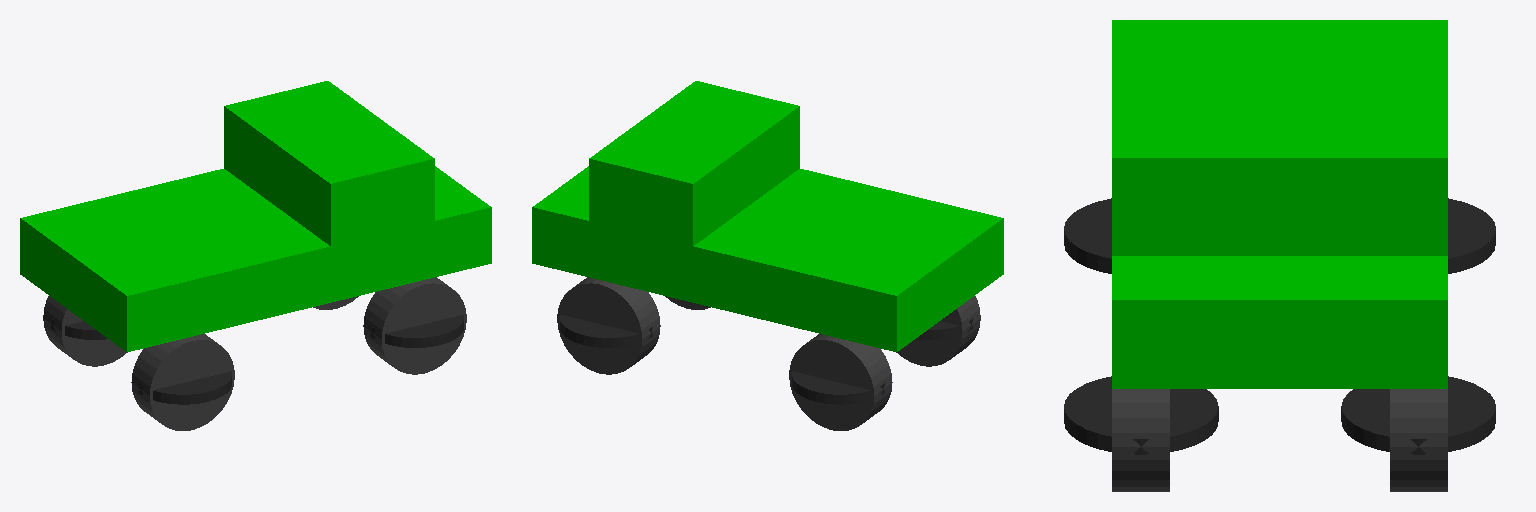
The robot description file, URDF, robot "rccar-unimog":
<?xml version="1.0" ?>
<!-- =================================================================================== -->
<!-- |    This document was autogenerated by xacro from rccar-unimog.urdf.xacro        | -->
<!-- |    EDITING THIS FILE BY HAND IS NOT RECOMMENDED                                 | -->
<!-- =================================================================================== -->
<robot name="rccar-unimog">
  <material name="black">
    <color rgba="0.0 0.0 0.0 1.0"/>
  </material>
  <material name="dark">
    <color rgba="0.3 0.3 0.3 1.0"/>
  </material>
  <material name="light_black">
    <color rgba="0.4 0.4 0.4 1.0"/>
  </material>
  <material name="blue">
    <color rgba="0.0 0.0 0.8 1.0"/>
  </material>
  <material name="green">
    <color rgba="0.0 0.8 0.0 1.0"/>
  </material>
  <material name="grey">
    <color rgba="0.2 0.2 0.2 1.0"/>
  </material>
  <material name="darkgrey">
    <color rgba="0.3 0.3 0.3 1.0"/>
  </material>
  <material name="orange">
    <color rgba="1.0 0.4235294117647059 0.0392156862745098 1.0"/>
  </material>
  <material name="brown">
    <color rgba="0.8705882352941177 0.8117647058823529 0.7647058823529411 1.0"/>
  </material>
  <material name="red">
    <color rgba="0.8 0.0 0.0 1.0"/>
  </material>
  <material name="white">
    <color rgba="1.0 1.0 1.0 1.0"/>
  </material>
  <material name="aluminum">
    <color rgba="0.5 0.5 0.5 1"/>
  </material>
  <material name="plastic">
    <color rgba="0.1 0.1 0.1 1"/>
  </material>
  <gazebo reference="base_link">
    <material>Gazebo/Green</material>
  </gazebo>
  <gazebo reference="gps_link">
    <material>Gazebo/Black</material>
    <sensor name="ublox_gps" type="gps">
      <always_on>true</always_on>
      <update_rate>5.0</update_rate>
      <!--
      <gps>
        <position_sensing>
          <horizontal>
            <noise type="gaussian">
              <mean>0.0</mean>
              <stddev>1e-2</stddev>
            </noise>
          </horizontal>
          <vertical>
            <noise type="gaussian">
              <mean>0.0</mean>
              <stddev>1</stddev>
            </noise>
          </vertical>
        </position_sensing>
      </gps>
      -->
      <plugin filename="libgazebo_ros_gps_sensor.so" name="gazebo_ros_gps_sensor">
        <frame_name>gps_link</frame_name>
        <ros>
          <remapping>~/out:=/gnss/fix</remapping>
        </ros>
      </plugin>
    </sensor>
  </gazebo>
  <gazebo reference="camera_imu_optical_frame">
    <!-- <gazebo reference="camera_gyro_optical_frame"> -->
    <gravity>true</gravity>
    <sensor name="camera_imu" type="imu">
      <always_on>true</always_on>
      <update_rate>200</update_rate>
      <plugin filename="libgazebo_ros_imu_sensor.so" name="imu_plugin">
        <frame_name>camera_imu_optical_frame</frame_name>
        <!-- <frame_name>camera_gyro_optical_frame</frame_name> -->
        <ros>
          <remapping>~/out:=/camera/imu_raw</remapping>
        </ros>
      </plugin>
    </sensor>
  </gazebo>
  <gazebo reference="camera_link">
    <sensor name="cameradepth" type="depth">
      <camera name="camera">
        <horizontal_fov>1.57</horizontal_fov>
        <image>
          <width>640</width>
          <height>480</height>
        </image>
        <clip>
          <near>0.1</near>
          <far>100</far>
        </clip>
        <noise>
          <type>gaussian</type>
          <mean>0.0</mean>
          <stddev>0.100</stddev>
        </noise>
      </camera>
      <always_on>1</always_on>
      <update_rate>30</update_rate>
      <visualize>0</visualize>
    </sensor>
    <sensor name="cameracolor" type="camera">
      <camera name="camera">
        <horizontal_fov>1.57</horizontal_fov>
        <image>
          <width>640</width>
          <height>480</height>
          <format>RGB_INT8</format>
        </image>
        <clip>
          <near>0.1</near>
          <far>100</far>
        </clip>
        <noise>
          <type>gaussian</type>
          <mean>0.0</mean>
          <stddev>0.007</stddev>
        </noise>
      </camera>
      <always_on>1</always_on>
      <update_rate>30</update_rate>
      <visualize>1</visualize>
    </sensor>
    <sensor name="cameraired1" type="camera">
      <camera name="camera">
        <horizontal_fov>1.57</horizontal_fov>
        <image>
          <width>640</width>
          <height>480</height>
          <format>L_INT8</format>
        </image>
        <clip>
          <near>0.1</near>
          <far>100</far>
        </clip>
        <noise>
          <type>gaussian</type>
          <mean>0.0</mean>
          <stddev>0.05</stddev>
        </noise>
      </camera>
      <always_on>1</always_on>
      <update_rate>1</update_rate>
      <visualize>0</visualize>
    </sensor>
    <sensor name="cameraired2" type="camera">
      <camera name="camera">
        <horizontal_fov>1.57</horizontal_fov>
        <image>
          <width>640</width>
          <height>480</height>
          <format>L_INT8</format>
        </image>
        <clip>
          <near>0.1</near>
          <far>100</far>
        </clip>
        <noise>
          <type>gaussian</type>
          <mean>0.0</mean>
          <stddev>0.05</stddev>
        </noise>
      </camera>
      <always_on>1</always_on>
      <update_rate>1</update_rate>
      <visualize>0</visualize>
    </sensor>
  </gazebo>
  <gazebo reference="realsense_joint">
    <disableFixedJointLumping>true</disableFixedJointLumping>
    <preserveFixedJoint>true</preserveFixedJoint>
  </gazebo>
  <gazebo>
    <plugin filename="librealsense_gazebo_plugin.so" name="gazebo_realsense">
      <prefix>camera</prefix>
      <depthUpdateRate>30.0</depthUpdateRate>
      <colorUpdateRate>30.0</colorUpdateRate>
      <infraredUpdateRate>1.0</infraredUpdateRate>
      <depthTopicName>camera/depth/image_rect_raw</depthTopicName>
      <depthCameraInfoTopicName>camera/depth/camera_info</depthCameraInfoTopicName>
      <colorTopicName>camera/color/image_raw</colorTopicName>
      <colorCameraInfoTopicName>camera/color/camera_info</colorCameraInfoTopicName>
      <infrared1TopicName>camera/infra1/image_raw</infrared1TopicName>
      <infrared1CameraInfoTopicName>camera/infra1/camera_info</infrared1CameraInfoTopicName>
      <infrared2TopicName>camera/infra2/image_raw</infrared2TopicName>
      <infrared2CameraInfoTopicName>camera/infra2/camera_info</infrared2CameraInfoTopicName>
      <colorOpticalframeName>camera_color_optical_frame</colorOpticalframeName>
      <depthOpticalframeName>camera_depth_optical_frame</depthOpticalframeName>
      <infrared1OpticalframeName>camera_left_ir_optical_frame</infrared1OpticalframeName>
      <infrared2OpticalframeName>camera_right_ir_optical_frame</infrared2OpticalframeName>
      <rangeMinDepth>0.3</rangeMinDepth>
      <rangeMaxDepth>3.0</rangeMaxDepth>
      <pointCloud>true</pointCloud>
      <pointCloudTopicName>camera/depth/color/points</pointCloudTopicName>
      <pointCloudCutoff>0.3</pointCloudCutoff>
    </plugin>
  </gazebo>
  <gazebo>
    <plugin filename="libgazebo_ros_ackermann_drive.so" name="gazebo_ros_ackermann_drive">
      <ros>
        <remapping>cmd_vel:=cmd_vel</remapping>
        <remapping>odom:=odometry/simulation</remapping>
        <remapping>distance:=distance</remapping>
      </ros>
      <!--<update_rate>33.3</update_rate>-->
      <!--<update_rate>10.0</update_rate>-->
      <update_rate>100.0</update_rate>
      <!-- wheels -->
      <front_left_joint>front_left_wheel_joint</front_left_joint>
      <front_right_joint>front_right_wheel_joint</front_right_joint>
      <rear_left_joint>rear_left_wheel_joint</rear_left_joint>
      <rear_right_joint>rear_right_wheel_joint</rear_right_joint>
      <left_steering_joint>front_left_mount_joint</left_steering_joint>
      <right_steering_joint>front_right_mount_joint</right_steering_joint>
      <!--<steering_wheel_joint>steering_joint</steering_wheel_joint>-->
      <!-- Max absolute steer angle for tyre in radians-->
      <!-- Any cmd_vel angular z greater than this would be capped -->
      <max_steer>0.6458</max_steer>
      <!-- Max absolute steering angle of steering wheel -->
      <max_steering_angle>7.85</max_steering_angle>
      <!-- Max absolute linear speed in m/s -->
      <max_speed>2.0</max_speed>
      <!-- PID tuning -->
      <left_steering_pid_gain>6 0 0</left_steering_pid_gain>
      <left_steering_i_range>0 0</left_steering_i_range>
      <right_steering_pid_gain>6 0 0</right_steering_pid_gain>
      <right_steering_i_range>0 0</right_steering_i_range>
      <linear_velocity_pid_gain>10 0 0</linear_velocity_pid_gain>
      <linear_velocity_i_range>0 0</linear_velocity_i_range>
      <!-- output -->
      <publish_odom>true</publish_odom>
      <publish_odom_tf>false</publish_odom_tf>
      <publish_wheel_tf>true</publish_wheel_tf>
      <publish_distance>true</publish_distance>
      <odometry_frame>odom</odometry_frame>
      <robot_base_frame>base_link</robot_base_frame>
    </plugin>
  </gazebo>
  <link name="base_link">
    <visual>
      <origin rpy="0 0 0" xyz="0.0 0.0 0.123"/>
      <geometry>
        <box size="0.385 0.195 0.057"/>
      </geometry>
      <material name="green"/>
    </visual>
    <visual>
      <origin rpy="0 0 0" xyz="0.0775 0.0 0.183"/>
      <geometry>
        <box size="0.110 0.195 0.063"/>
      </geometry>
      <material name="green"/>
    </visual>
    <collision>
      <origin rpy="0 0 0" xyz="-0.1925 -0.0975 0.0945"/>
      <geometry>
        <box size="0.385 0.195 0.120"/>
      </geometry>
    </collision>
    <inertial>
      <mass value="1.5"/>
      <inertia ixx="0.006553125" ixy="0" ixz="0" iyy="0.020328125" iyz="0" izz="0.02328125"/>
    </inertial>
  </link>
  <link name="gps_link">
    <visual>
      <origin rpy="0 0 0" xyz="0.0 0.0 0.0"/>
      <geometry>
        <box size="0.055 0.060 0.0225"/>
      </geometry>
      <material name="black"/>
    </visual>
  </link>
  <joint name="base_link_to_gps_link" type="fixed">
    <parent link="base_link"/>
    <child link="gps_link"/>
    <origin rpy="0 0 0" xyz="-0.1375 0.0 0.125"/>
  </joint>
  <!--
  <link name="camera_link">
    <visual>
      <origin xyz="0.0 0.0 0.0" rpy="0 0 0" />
      <geometry>
        <box size="0.025 0.090 0.025" />
      </geometry>
      <material name="white"/>
    </visual>
  </link>

  <joint name="base_link_to_camera_link" type="fixed">
    <parent link="base_link"/>
    <child link="camera_link" />
    <origin xyz="0.09615 0.0 0.185" rpy="0 0 0"/>
  </joint>
  -->
  <!-- camera body, with origin at bottom screw mount -->
  <joint name="camera_joint" type="fixed">
    <origin rpy="0 0 0" xyz="0.09615 0.0 0.185"/>
    <parent link="base_link"/>
    <child link="camera_bottom_screw_frame"/>
  </joint>
  <link name="camera_bottom_screw_frame"/>
  <joint name="camera_link_joint" type="fixed">
    <origin rpy="0 0 0" xyz="0.010600000000000002 0.0175 0.0125"/>
    <parent link="camera_bottom_screw_frame"/>
    <child link="camera_link"/>
  </joint>
  <link name="camera_link">
    <visual>
      <origin rpy="0 0 0" xyz="0 -0.0175 0"/>
      <geometry>
        <box size="0.02505 0.09 0.025"/>
      </geometry>
      <material name="aluminum"/>
    </visual>
    <collision>
      <origin rpy="0 0 0" xyz="0 -0.0175 0"/>
      <geometry>
        <box size="0.02505 0.09 0.025"/>
      </geometry>
    </collision>
    <inertial>
      <!-- The following are not reliable values, and should not be used for modeling -->
      <mass value="0.072"/>
      <origin xyz="0 0 0"/>
      <inertia ixx="0.003881243" ixy="0.0" ixz="0.0" iyy="0.000498940" iyz="0.0" izz="0.003879257"/>
    </inertial>
  </link>
  <!-- camera depth joints and links -->
  <joint name="camera_depth_joint" type="fixed">
    <origin rpy="0 0 0" xyz="0 0 0"/>
    <parent link="camera_link"/>
    <child link="camera_depth_frame"/>
  </joint>
  <link name="camera_depth_frame"/>
  <joint name="camera_depth_optical_joint" type="fixed">
    <origin rpy="-1.5707963267948966 0 -1.5707963267948966" xyz="0 0 0"/>
    <parent link="camera_depth_frame"/>
    <child link="camera_depth_optical_frame"/>
  </joint>
  <link name="camera_depth_optical_frame"/>
  <!-- camera left IR joints and links -->
  <joint name="camera_infra1_joint" type="fixed">
    <origin rpy="0 0 0" xyz="0 0.0 0"/>
    <parent link="camera_link"/>
    <child link="camera_infra1_frame"/>
  </joint>
  <link name="camera_infra1_frame"/>
  <joint name="camera_infra1_optical_joint" type="fixed">
    <origin rpy="-1.5707963267948966 0 -1.5707963267948966" xyz="0 0 0"/>
    <parent link="camera_infra1_frame"/>
    <child link="camera_infra1_optical_frame"/>
  </joint>
  <link name="camera_infra1_optical_frame"/>
  <!-- camera right IR joints and links -->
  <joint name="camera_infra2_joint" type="fixed">
    <origin rpy="0 0 0" xyz="0 -0.05 0"/>
    <parent link="camera_link"/>
    <child link="camera_infra2_frame"/>
  </joint>
  <link name="camera_infra2_frame"/>
  <joint name="camera_infra2_optical_joint" type="fixed">
    <origin rpy="-1.5707963267948966 0 -1.5707963267948966" xyz="0 0 0"/>
    <parent link="camera_infra2_frame"/>
    <child link="camera_infra2_optical_frame"/>
  </joint>
  <link name="camera_infra2_optical_frame"/>
  <!-- camera color joints and links -->
  <joint name="camera_color_joint" type="fixed">
    <origin rpy="0 0 0" xyz="0 0.015 0"/>
    <parent link="camera_link"/>
    <child link="camera_color_frame"/>
  </joint>
  <link name="camera_color_frame"/>
  <joint name="camera_color_optical_joint" type="fixed">
    <origin rpy="-1.5707963267948966 0 -1.5707963267948966" xyz="0 0 0"/>
    <parent link="camera_color_frame"/>
    <child link="camera_color_optical_frame"/>
  </joint>
  <link name="camera_color_optical_frame"/>
  <link name="camera_accel_frame"/>
  <link name="camera_accel_optical_frame"/>
  <link name="camera_gyro_frame"/>
  <link name="camera_gyro_optical_frame"/>
  <joint name="camera_accel_joint" type="fixed">
    <origin rpy="0 0 0" xyz="-0.01174 -0.00552 0.0051"/>
    <parent link="camera_link"/>
    <child link="camera_accel_frame"/>
  </joint>
  <joint name="camera_accel_optical_joint" type="fixed">
    <origin rpy="-1.5707963267948966 0 -1.5707963267948966" xyz="0 0 0"/>
    <parent link="camera_accel_frame"/>
    <child link="camera_accel_optical_frame"/>
  </joint>
  <joint name="camera_gyro_joint" type="fixed">
    <origin rpy="0 0 0" xyz="-0.01174 -0.00552 0.0051"/>
    <parent link="camera_link"/>
    <child link="camera_gyro_frame"/>
  </joint>
  <joint name="camera_gyro_optical_joint" type="fixed">
    <origin rpy="-1.5707963267948966 0 -1.5707963267948966" xyz="0 0 0"/>
    <parent link="camera_gyro_frame"/>
    <child link="camera_gyro_optical_frame"/>
  </joint>
  <link name="camera_imu_optical_frame"/>
  <joint name="gyro_optical_to_imu_optical" type="fixed">
    <parent link="camera_gyro_optical_frame"/>
    <child link="camera_imu_optical_frame"/>
    <origin rpy="0 0 0" xyz="0 0 0"/>
  </joint>
  <link name="front_left_mount">
    <visual>
      <origin rpy="0 0 0" xyz="0.0 0.0 0.0"/>
      <geometry>
        <cylinder length="0.01" radius="0.045"/>
      </geometry>
      <material name="grey"/>
    </visual>
    <collision>
      <origin rpy="0 0 0" xyz="0.0 0.0 0.0"/>
      <geometry>
        <cylinder length="0.01" radius="0.045"/>
      </geometry>
    </collision>
    <inertial>
      <mass value="8.0"/>
      <inertia ixx="0.01" ixy="0.0" ixz="0.0" iyy="0.01" iyz="0.0" izz="0.01"/>
    </inertial>
  </link>
  <joint name="front_left_mount_joint" type="revolute">
    <parent link="base_link"/>
    <child link="front_left_mount"/>
    <axis rpy="0 0 0" xyz="0 0 1"/>
    <origin rpy="0 0 0" xyz="0.1215 0.08075 0.045"/>
    <!--<dynamics damping="0.0" friction="0.01" />-->
    <limit effort="4.2" lower="-0.6458" upper="0.6458" velocity="6.28"/>
    <!--<limit lower="-0.6458" upper="0.6458" effort="0.5" velocity="6.28" />-->
  </joint>
  <link name="front_left_wheel">
    <visual>
      <origin rpy="1.570796 0 0" xyz="0.0 0.0 0.0"/>
      <geometry>
        <cylinder length="0.0335" radius="0.045"/>
      </geometry>
      <material name="darkgrey"/>
    </visual>
    <collision>
      <origin rpy="1.570796 0 0" xyz="0.0 0.0 0.0"/>
      <geometry>
        <cylinder length="0.0335" radius="0.045"/>
      </geometry>
    </collision>
    <inertial>
      <mass value="0.5"/>
      <inertia ixx="0.01" ixy="0.0" ixz="0.0" iyy="0.01" iyz="0.0" izz="0.01"/>
    </inertial>
    <!--
      <inertial>
        <mass value="0.1" />
        <xacro:common_cylinder_inertia m="0.1" r="${wheel_diameter/2}" h="${wheel_thickness}" />
      </inertial>
      -->
  </link>
  <joint name="front_left_wheel_joint" type="continuous">
    <parent link="front_left_mount"/>
    <child link="front_left_wheel"/>
    <axis rpy="0 0 0" xyz="0 1 0"/>
    <origin rpy="0 0 0" xyz="0.0 0.0 0.0"/>
    <!--<dynamics damping="0.0" friction="0.01" />-->
  </joint>
  <gazebo reference="front_left_mount">
    <material>Gazebo/Grey</material>
  </gazebo>
  <gazebo reference="front_left_wheel">
    <material>Gazebo/DarkGrey</material>
  </gazebo>
  <link name="front_right_mount">
    <visual>
      <origin rpy="0 0 0" xyz="0.0 0.0 0.0"/>
      <geometry>
        <cylinder length="0.01" radius="0.045"/>
      </geometry>
      <material name="grey"/>
    </visual>
    <collision>
      <origin rpy="0 0 0" xyz="0.0 0.0 0.0"/>
      <geometry>
        <cylinder length="0.01" radius="0.045"/>
      </geometry>
    </collision>
    <inertial>
      <mass value="8.0"/>
      <inertia ixx="0.01" ixy="0.0" ixz="0.0" iyy="0.01" iyz="0.0" izz="0.01"/>
    </inertial>
  </link>
  <joint name="front_right_mount_joint" type="revolute">
    <parent link="base_link"/>
    <child link="front_right_mount"/>
    <axis rpy="0 0 0" xyz="0 0 1"/>
    <origin rpy="0 0 0" xyz="0.1215 -0.08075 0.045"/>
    <!--<dynamics damping="0.0" friction="0.01" />-->
    <limit effort="4.2" lower="-0.6458" upper="0.6458" velocity="6.28"/>
    <!--<limit lower="-0.6458" upper="0.6458" effort="0.5" velocity="6.28" />-->
  </joint>
  <link name="front_right_wheel">
    <visual>
      <origin rpy="1.570796 0 0" xyz="0.0 0.0 0.0"/>
      <geometry>
        <cylinder length="0.0335" radius="0.045"/>
      </geometry>
      <material name="darkgrey"/>
    </visual>
    <collision>
      <origin rpy="1.570796 0 0" xyz="0.0 0.0 0.0"/>
      <geometry>
        <cylinder length="0.0335" radius="0.045"/>
      </geometry>
    </collision>
    <inertial>
      <mass value="0.5"/>
      <inertia ixx="0.01" ixy="0.0" ixz="0.0" iyy="0.01" iyz="0.0" izz="0.01"/>
    </inertial>
    <!--
      <inertial>
        <mass value="0.1" />
        <xacro:common_cylinder_inertia m="0.1" r="${wheel_diameter/2}" h="${wheel_thickness}" />
      </inertial>
      -->
  </link>
  <joint name="front_right_wheel_joint" type="continuous">
    <parent link="front_right_mount"/>
    <child link="front_right_wheel"/>
    <axis rpy="0 0 0" xyz="0 1 0"/>
    <origin rpy="0 0 0" xyz="0.0 0.0 0.0"/>
    <!--<dynamics damping="0.0" friction="0.01" />-->
  </joint>
  <gazebo reference="front_right_mount">
    <material>Gazebo/Grey</material>
  </gazebo>
  <gazebo reference="front_right_wheel">
    <material>Gazebo/DarkGrey</material>
  </gazebo>
  <link name="rear_left_mount">
    <visual>
      <origin rpy="0 0 0" xyz="0.0 0.0 0.0"/>
      <geometry>
        <cylinder length="0.01" radius="0.045"/>
      </geometry>
      <material name="grey"/>
    </visual>
    <collision>
      <origin rpy="0 0 0" xyz="0.0 0.0 0.0"/>
      <geometry>
        <cylinder length="0.01" radius="0.045"/>
      </geometry>
    </collision>
    <inertial>
      <mass value="8.0"/>
      <inertia ixx="0.01" ixy="0.0" ixz="0.0" iyy="0.01" iyz="0.0" izz="0.01"/>
    </inertial>
  </link>
  <joint name="rear_left_mount_joint" type="fixed">
    <parent link="base_link"/>
    <child link="rear_left_mount"/>
    <axis rpy="0 0 0" xyz="0 0 1"/>
    <origin rpy="0 0 0" xyz="-0.1235 0.08075 0.045"/>
    <!--<dynamics damping="0.0" friction="0.01" />-->
    <limit effort="4.2" lower="-0.6458" upper="0.6458" velocity="6.28"/>
    <!--<limit lower="-0.6458" upper="0.6458" effort="0.5" velocity="6.28" />-->
  </joint>
  <link name="rear_left_wheel">
    <visual>
      <origin rpy="1.570796 0 0" xyz="0.0 0.0 0.0"/>
      <geometry>
        <cylinder length="0.0335" radius="0.045"/>
      </geometry>
      <material name="darkgrey"/>
    </visual>
    <collision>
      <origin rpy="1.570796 0 0" xyz="0.0 0.0 0.0"/>
      <geometry>
        <cylinder length="0.0335" radius="0.045"/>
      </geometry>
    </collision>
    <inertial>
      <mass value="0.5"/>
      <inertia ixx="0.01" ixy="0.0" ixz="0.0" iyy="0.01" iyz="0.0" izz="0.01"/>
    </inertial>
    <!--
      <inertial>
        <mass value="0.1" />
        <xacro:common_cylinder_inertia m="0.1" r="${wheel_diameter/2}" h="${wheel_thickness}" />
      </inertial>
      -->
  </link>
  <joint name="rear_left_wheel_joint" type="continuous">
    <parent link="rear_left_mount"/>
    <child link="rear_left_wheel"/>
    <axis rpy="0 0 0" xyz="0 1 0"/>
    <origin rpy="0 0 0" xyz="0.0 0.0 0.0"/>
    <!--<dynamics damping="0.0" friction="0.01" />-->
  </joint>
  <gazebo reference="rear_left_mount">
    <material>Gazebo/Grey</material>
  </gazebo>
  <gazebo reference="rear_left_wheel">
    <material>Gazebo/DarkGrey</material>
  </gazebo>
  <link name="rear_right_mount">
    <visual>
      <origin rpy="0 0 0" xyz="0.0 0.0 0.0"/>
      <geometry>
        <cylinder length="0.01" radius="0.045"/>
      </geometry>
      <material name="grey"/>
    </visual>
    <collision>
      <origin rpy="0 0 0" xyz="0.0 0.0 0.0"/>
      <geometry>
        <cylinder length="0.01" radius="0.045"/>
      </geometry>
    </collision>
    <inertial>
      <mass value="8.0"/>
      <inertia ixx="0.01" ixy="0.0" ixz="0.0" iyy="0.01" iyz="0.0" izz="0.01"/>
    </inertial>
  </link>
  <joint name="rear_right_mount_joint" type="fixed">
    <parent link="base_link"/>
    <child link="rear_right_mount"/>
    <axis rpy="0 0 0" xyz="0 0 1"/>
    <origin rpy="0 0 0" xyz="-0.1235 -0.08075 0.045"/>
    <!--<dynamics damping="0.0" friction="0.01" />-->
    <limit effort="4.2" lower="-0.6458" upper="0.6458" velocity="6.28"/>
    <!--<limit lower="-0.6458" upper="0.6458" effort="0.5" velocity="6.28" />-->
  </joint>
  <link name="rear_right_wheel">
    <visual>
      <origin rpy="1.570796 0 0" xyz="0.0 0.0 0.0"/>
      <geometry>
        <cylinder length="0.0335" radius="0.045"/>
      </geometry>
      <material name="darkgrey"/>
    </visual>
    <collision>
      <origin rpy="1.570796 0 0" xyz="0.0 0.0 0.0"/>
      <geometry>
        <cylinder length="0.0335" radius="0.045"/>
      </geometry>
    </collision>
    <inertial>
      <mass value="0.5"/>
      <inertia ixx="0.01" ixy="0.0" ixz="0.0" iyy="0.01" iyz="0.0" izz="0.01"/>
    </inertial>
    <!--
      <inertial>
        <mass value="0.1" />
        <xacro:common_cylinder_inertia m="0.1" r="${wheel_diameter/2}" h="${wheel_thickness}" />
      </inertial>
      -->
  </link>
  <joint name="rear_right_wheel_joint" type="continuous">
    <parent link="rear_right_mount"/>
    <child link="rear_right_wheel"/>
    <axis rpy="0 0 0" xyz="0 1 0"/>
    <origin rpy="0 0 0" xyz="0.0 0.0 0.0"/>
    <!--<dynamics damping="0.0" friction="0.01" />-->
  </joint>
  <gazebo reference="rear_right_mount">
    <material>Gazebo/Grey</material>
  </gazebo>
  <gazebo reference="rear_right_wheel">
    <material>Gazebo/DarkGrey</material>
  </gazebo>
</robot>

--- What the picture shows (computed from the rendered views, not written in the file) ---
Views: 3 orthographic renders of the robot side by side, from view 1: azimuth 30°, elevation 25°; view 2: azimuth 150°, elevation 25°; view 3: azimuth 270°, elevation 25°.
Model rccar-unimog with 25 links and 24 joints (2 revolute, 4 continuous, 18 fixed), rooted at base_link, posed every joint at zero.
Links seen in each view (by area): view 1: base_link, front_right_wheel, rear_right_wheel, rear_left_wheel, rear_right_mount, front_right_mount, rear_left_mount; view 2: base_link, front_left_wheel, rear_left_wheel, rear_right_wheel, rear_left_mount, front_left_mount, rear_right_mount; view 3: base_link, front_left_wheel, front_right_wheel, front_left_mount, front_right_mount, rear_left_mount, rear_right_mount.
Boxes of the visible links, x1,y1,x2,y2 form: base_link: [20, 81, 491, 351]; front_right_wheel: [363, 277, 466, 374]; rear_right_wheel: [131, 334, 234, 430]; rear_left_wheel: [43, 296, 127, 366]; rear_right_mount: [138, 371, 231, 404]; front_right_mount: [370, 315, 463, 347]; rear_left_mount: [50, 318, 107, 339]; base_link: [532, 81, 1003, 351]; front_left_wheel: [557, 277, 660, 374]; rear_left_wheel: [789, 334, 892, 430]; rear_right_wheel: [896, 296, 980, 366]; rear_left_mount: [792, 371, 885, 404]; front_left_mount: [560, 315, 653, 347]; rear_right_mount: [916, 318, 973, 339]; base_link: [1112, 20, 1447, 388]; front_left_wheel: [1390, 389, 1447, 491]; front_right_wheel: [1112, 389, 1169, 491]; front_left_mount: [1341, 376, 1495, 454]; front_right_mount: [1064, 376, 1218, 454]; rear_left_mount: [1448, 198, 1495, 273]; rear_right_mount: [1064, 198, 1111, 273].
Size in the robot's own frame: 0.385 by 0.2515 by 0.2145 metres.
Geometry: primitives only (box / cylinder / sphere), no mesh files.
